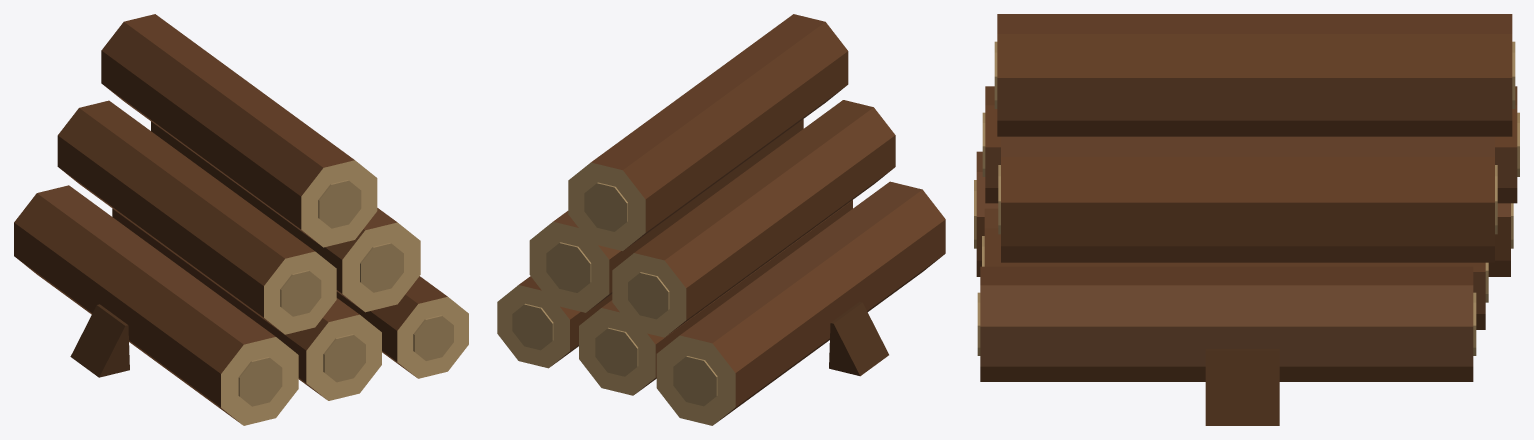
The model's file is LogPile.glb.
3 views of the same model, side by side, from view 1: azimuth 30°, elevation 25°; view 2: azimuth 150°, elevation 25°; view 3: azimuth 270°, elevation 25° (orthographic). The views are drawn at different scales.
Visible parts, largest first — view 1: Body; view 2: Body; view 3: Body.
Part boxes in pixels (x1,y1,x2,y2): Body: [14, 14, 468, 425]; Body: [497, 14, 945, 425]; Body: [974, 14, 1519, 425].
Bounding box in the file's own units: 5.15 × 3.61 × 5.92.
